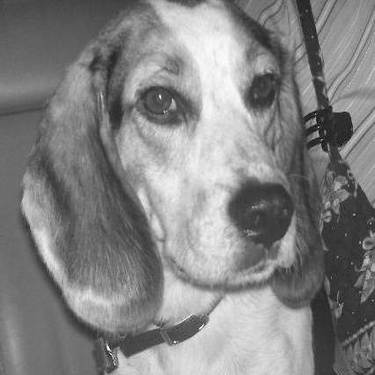dog: (22, 2, 334, 371)
